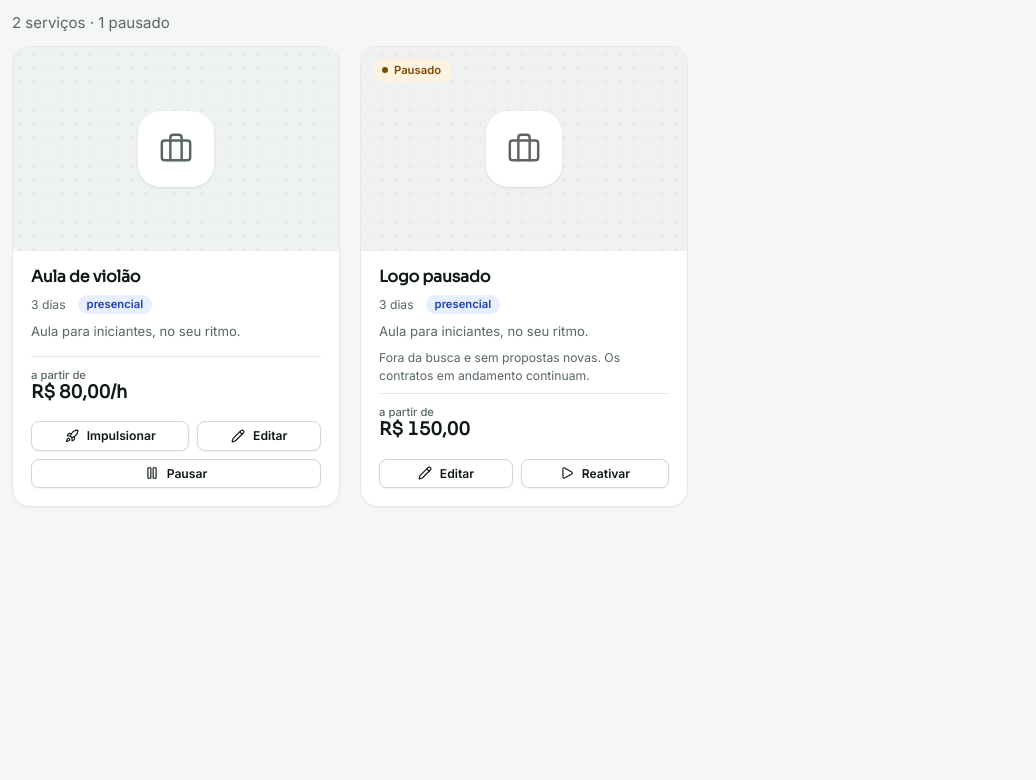
MyServices: pausar e reativar (RF-030) › "Pausar" manda só isActive false, avisa o que muda e recarrega a lista
Click the button "Pausar" at (176, 473), box [31,459,321,488]
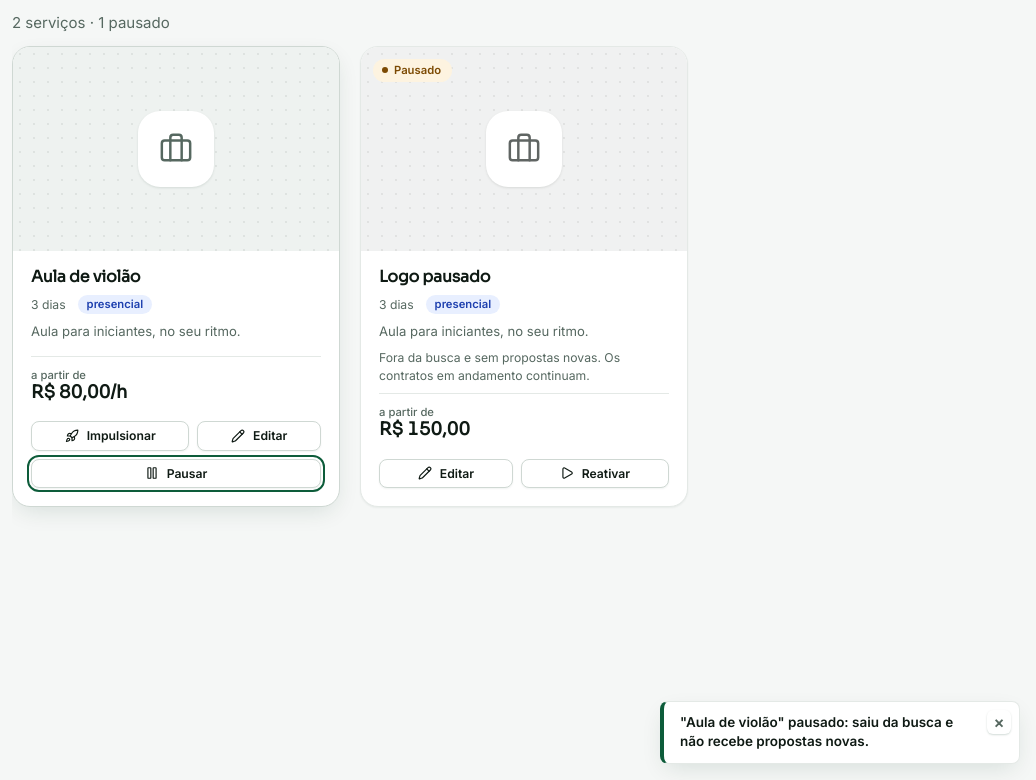
Expected: the text "\"Aula de violão\" pausado: saiu da busca e não recebe propostas novas." is shown, [680,713,979,752]
